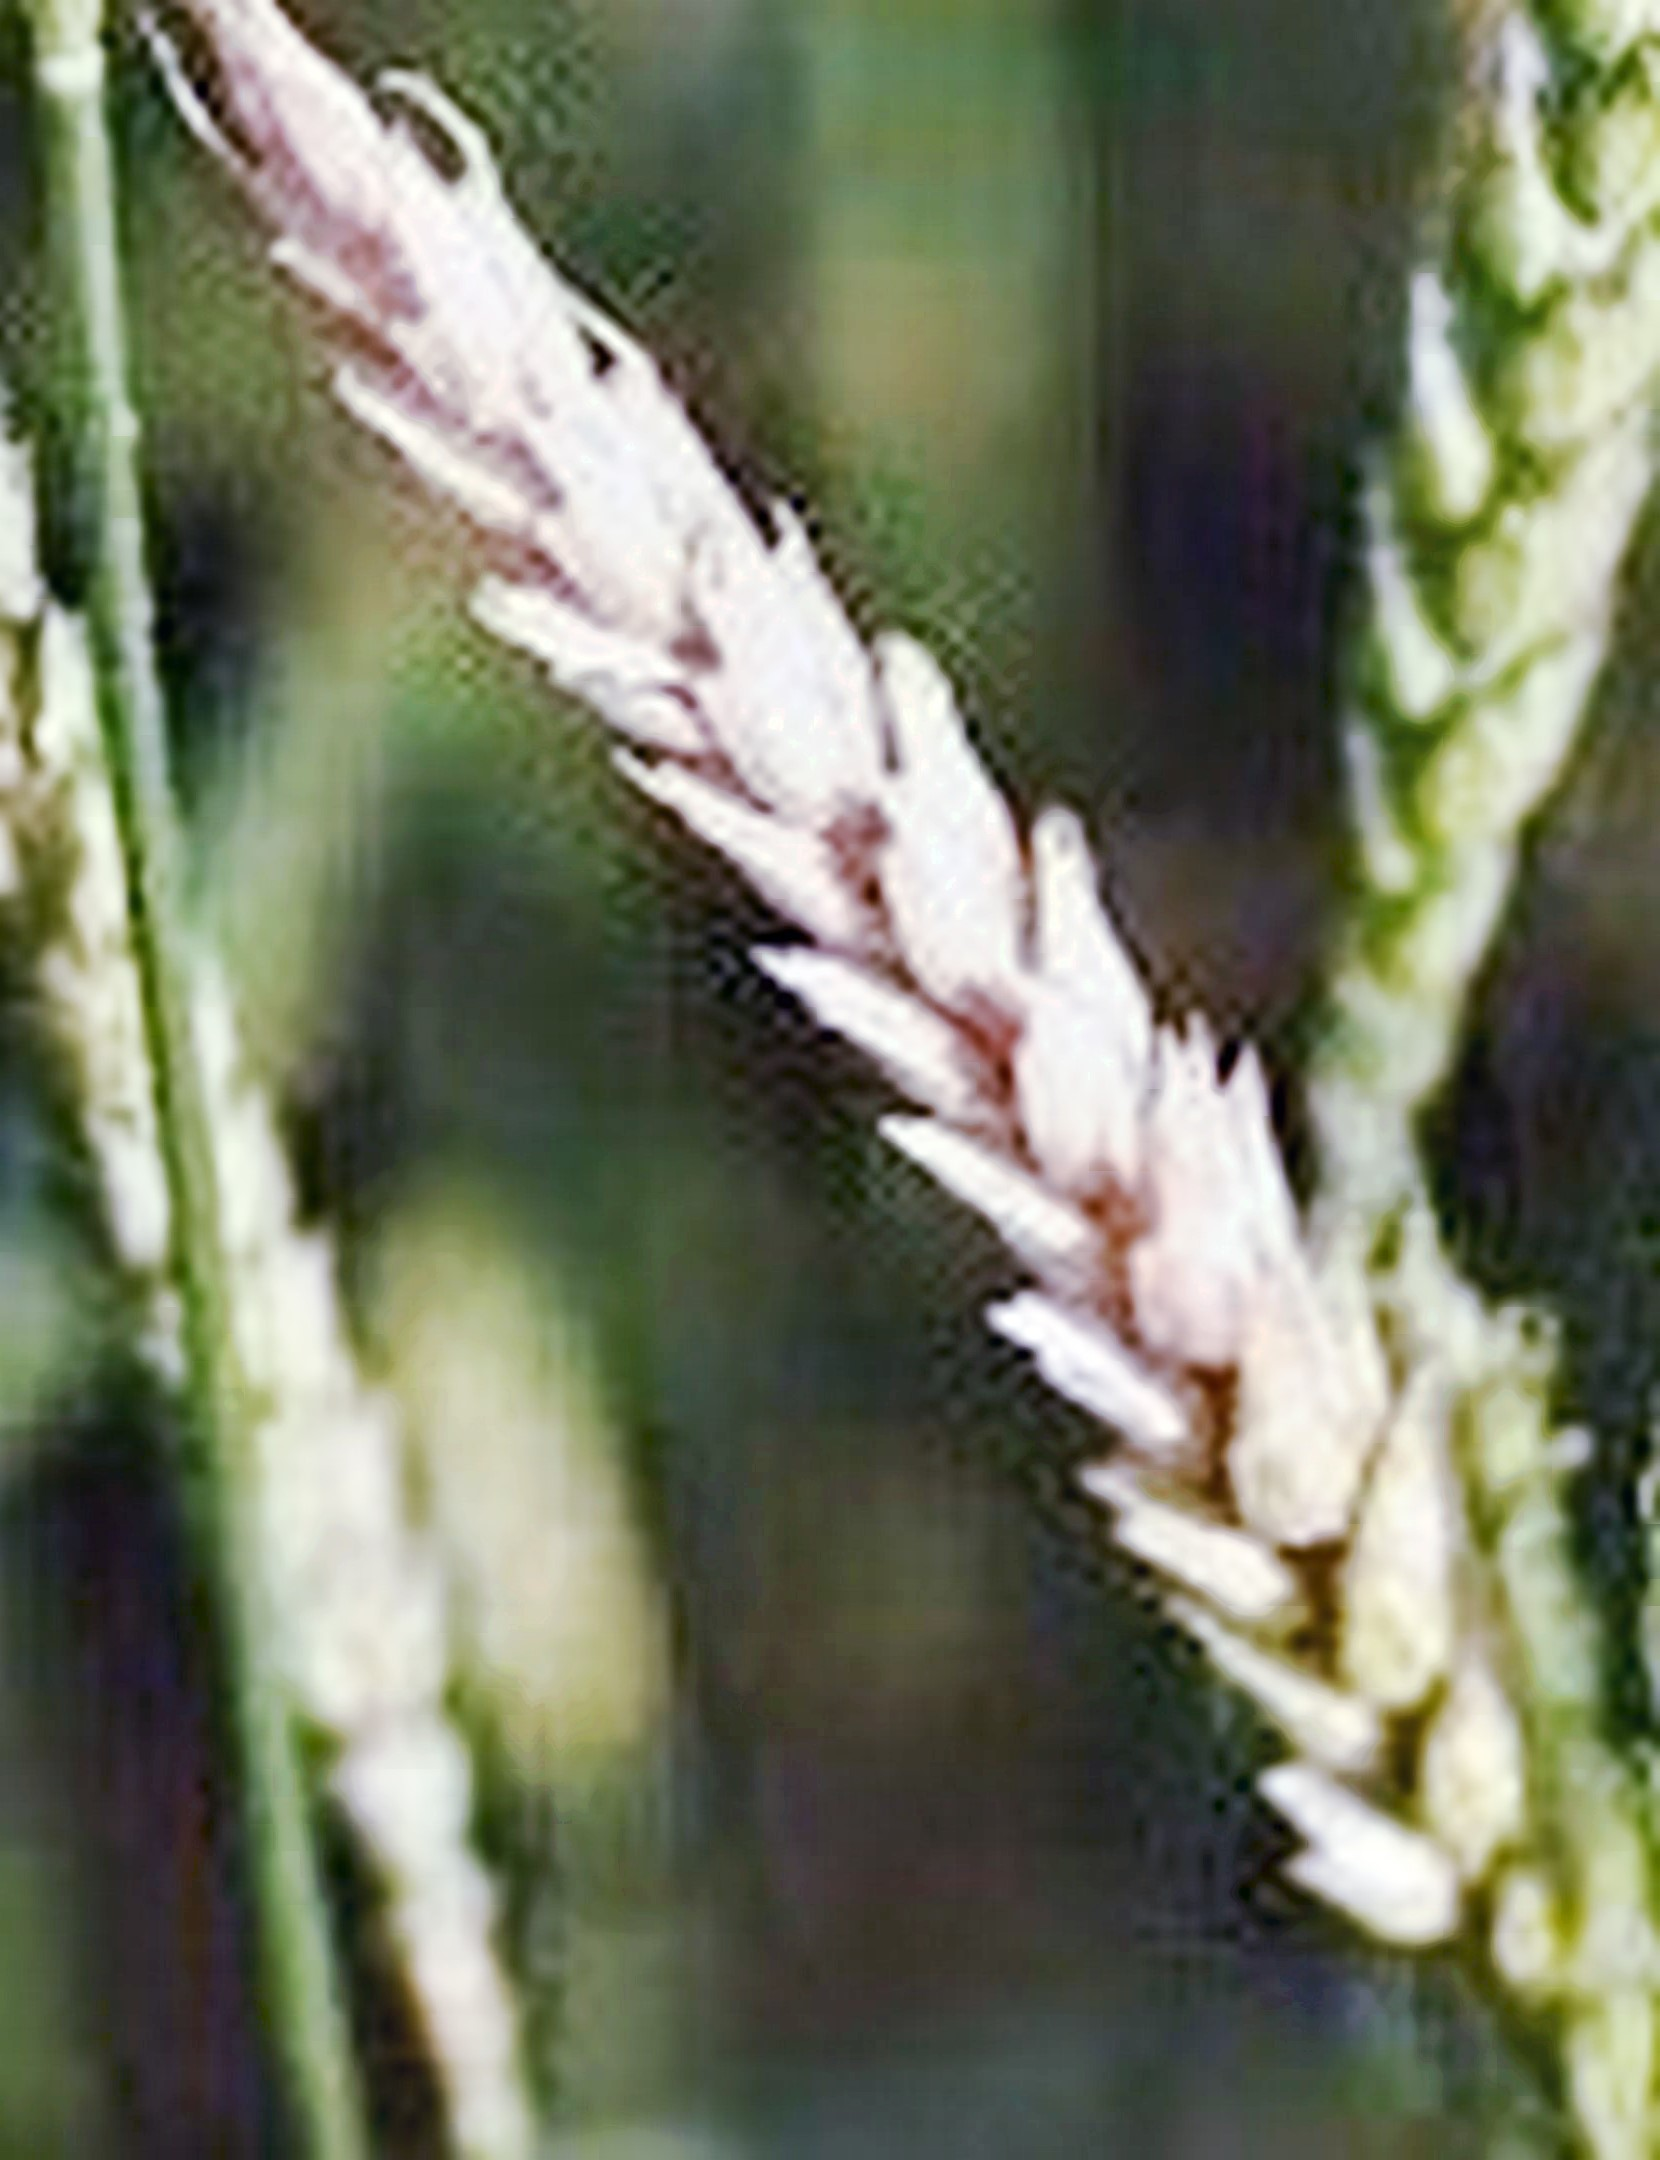Wheat scab: (262, 87, 1524, 1876)
